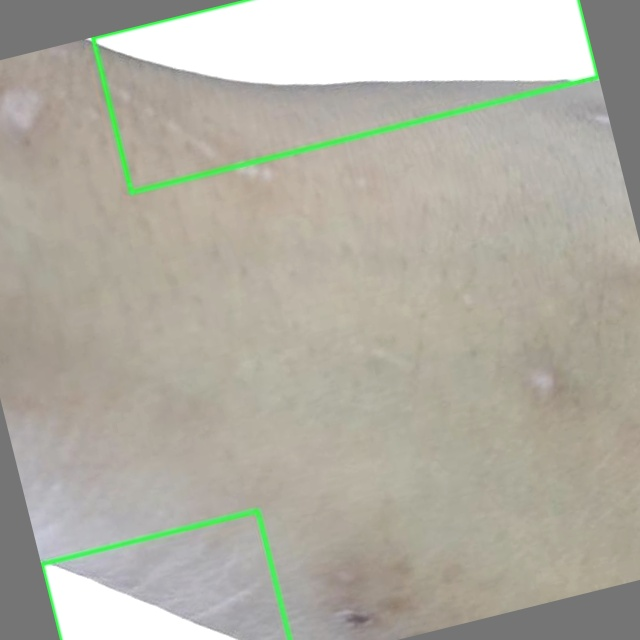Scabies: (92, 0, 597, 192), (41, 510, 290, 639)
